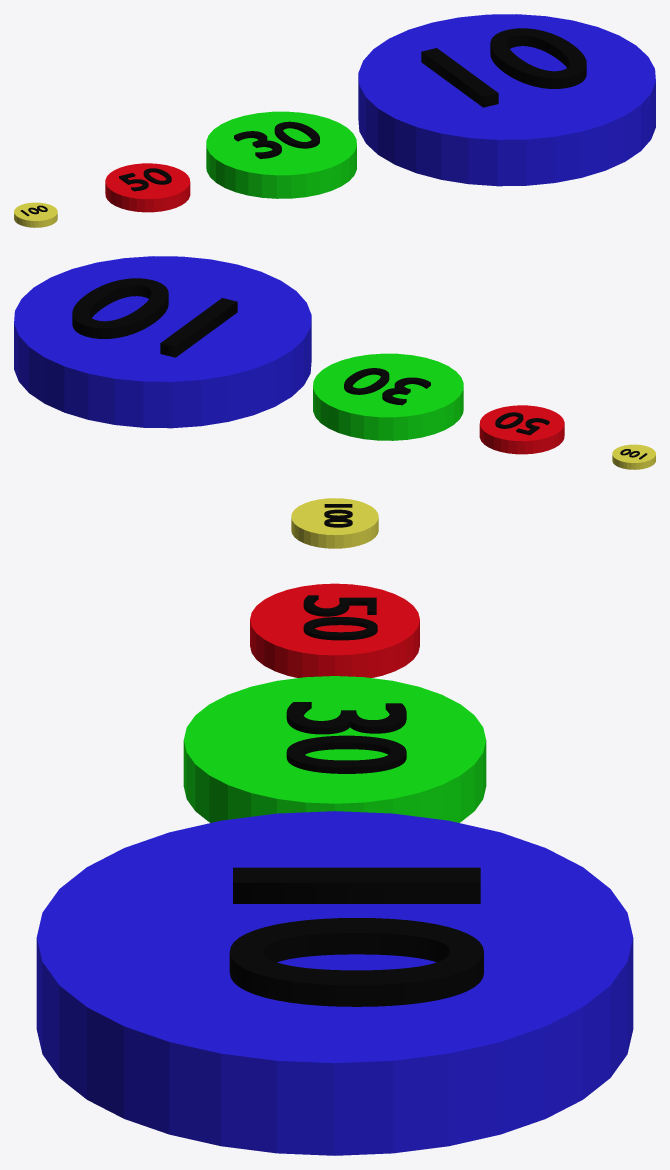
The picture shows the model from 3 angles, top to bottom: view 1: azimuth 30°, elevation 25°; view 2: azimuth 150°, elevation 25°; view 3: azimuth 270°, elevation 25°; orthographic projection. The views are drawn at different scales.
Visible parts, largest first — view 1: 円柱.003, 円柱.002, テキスト.003, 円柱.001, テキスト.002, 円柱, テキスト.001; view 2: 円柱.003, 円柱.002, テキスト.003, 円柱.001, テキスト.002, 円柱, テキスト.001; view 3: 円柱.003, 円柱.002, テキスト.003, 円柱.001, テキスト.002, 円柱, テキスト.001.
Boxes of the visible parts, x1,y1,x2,y2 form: 円柱.003: (358,14,655,186); 円柱.002: (206,111,356,198); テキスト.003: (421,28,586,107); 円柱.001: (105,163,190,212); テキスト.002: (234,121,319,158); 円柱: (14,202,57,227); テキスト.001: (119,168,171,191); 円柱.003: (14,256,311,428); 円柱.002: (313,353,463,440); テキスト.003: (72,278,237,357); 円柱.001: (479,405,564,454); テキスト.002: (344,368,430,405); 円柱: (612,444,655,469); テキスト.001: (495,412,549,435); 円柱.003: (36,811,633,1155); 円柱.002: (183,676,486,822); テキスト.003: (229,867,483,1006); 円柱.001: (250,583,419,677); テキスト.002: (286,702,406,773); 円柱: (291,498,378,548); テキスト.001: (303,595,377,640).
Bounding box in the file's own units: 498 × 43.83 × 208.
